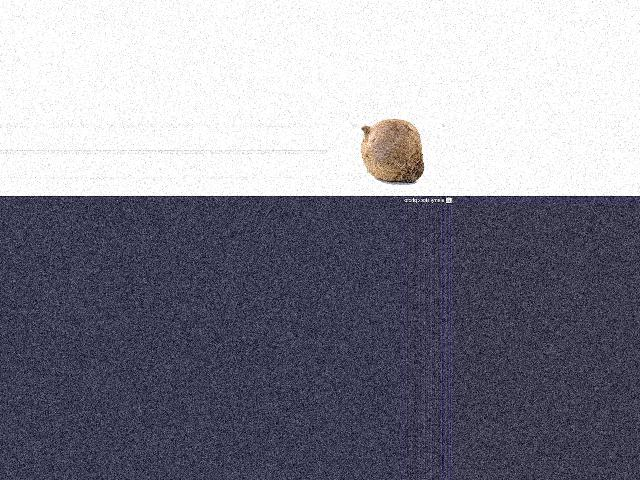beet: (360, 119, 423, 183)
